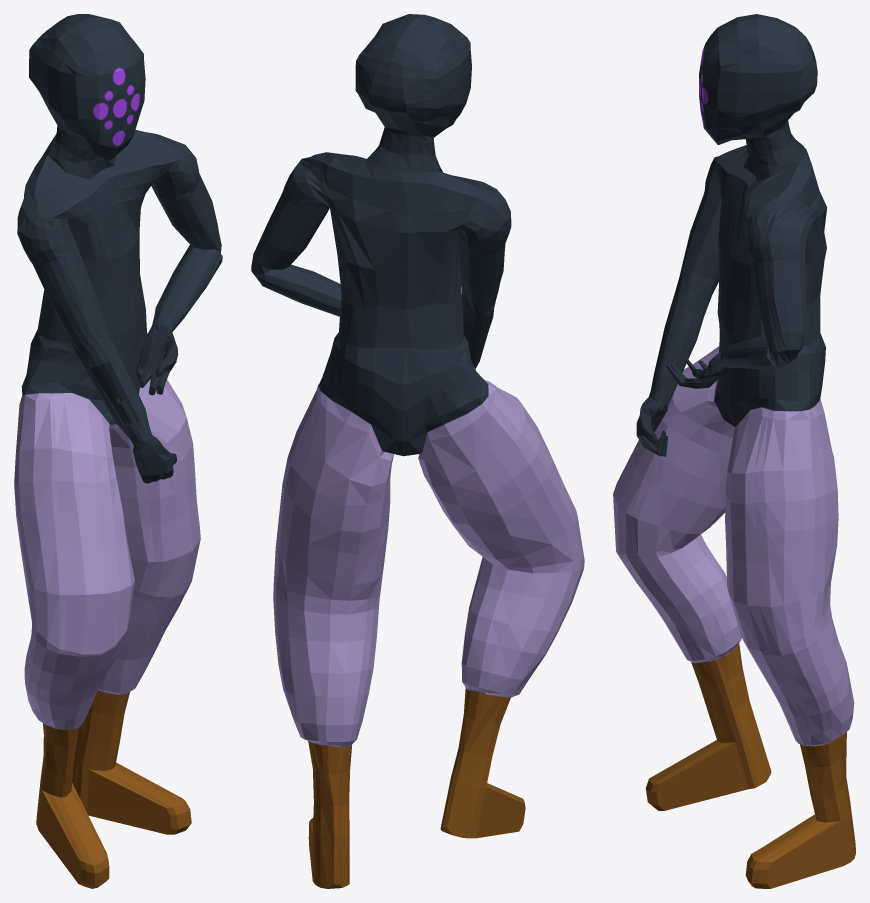
File: Oracle_WL_000024.obj
3 views of the same model, side by side, from view 1: azimuth 30°, elevation 25°; view 2: azimuth 150°, elevation 25°; view 3: azimuth 270°, elevation 25° (orthographic). The views are drawn at different scales.
Parts seen in each view (by area): view 1: Cube; view 2: Cube; view 3: Cube.
Boxes of the visible parts, x1,y1,x2,y2 form: Cube: (14,14,222,888); Cube: (251,14,584,888); Cube: (613,14,855,888).
Size of the model in its own units: 1.23 by 3.89 by 1.04.
